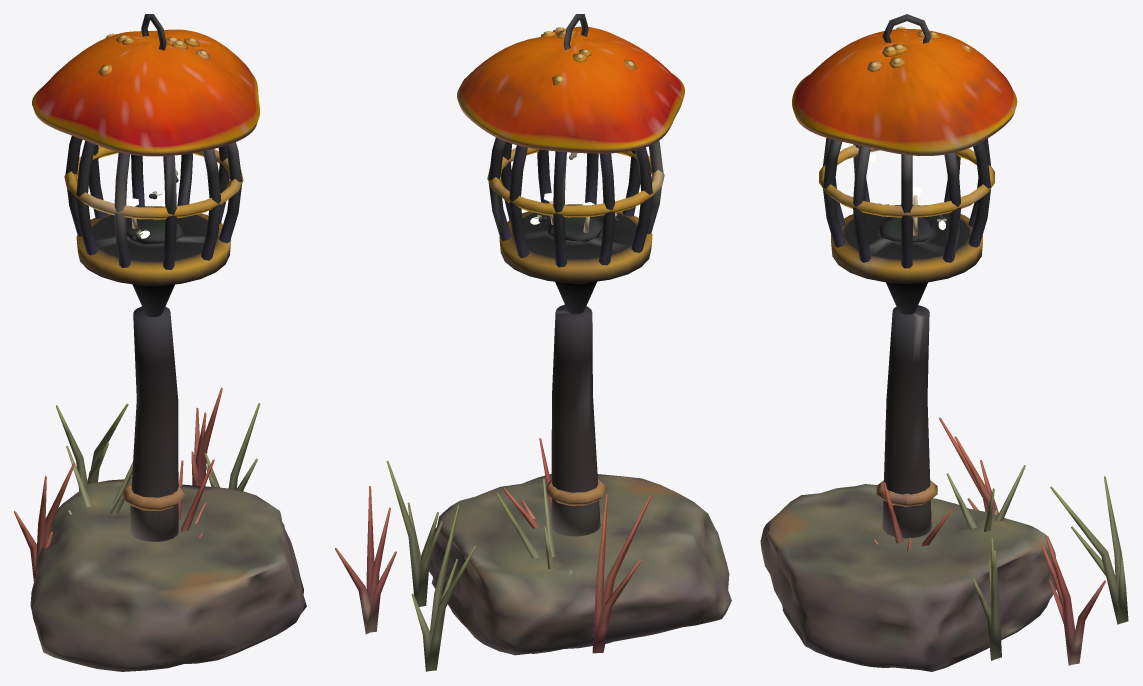
Rendered from lamba_bahce.glb.
3 renders of one model, left to right at view 1: azimuth 30°, elevation 25°; view 2: azimuth 150°, elevation 25°; view 3: azimuth 270°, elevation 25°, orthographic.
Parts seen in each view (by area): view 1: lamba_bahce_LOD0; view 2: lamba_bahce_LOD0; view 3: lamba_bahce_LOD0.
Boxes of the visible parts, <box> form: lamba_bahce_LOD0: <box>14,14,306,671</box>; lamba_bahce_LOD0: <box>335,14,731,671</box>; lamba_bahce_LOD0: <box>760,14,1128,671</box>.
Size of what is drawn, in the model's own units: 0.7785 by 1.63 by 0.8957.
